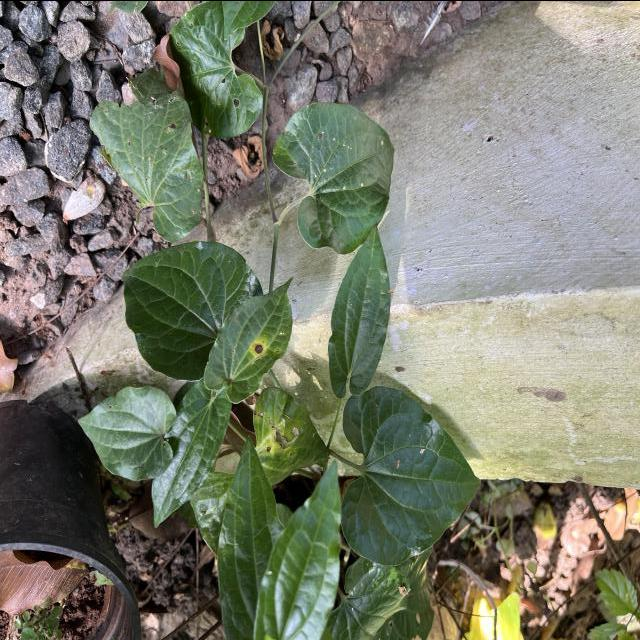Piper longum: (338, 382, 482, 568), (120, 238, 265, 382), (270, 99, 396, 256), (326, 222, 394, 400)
